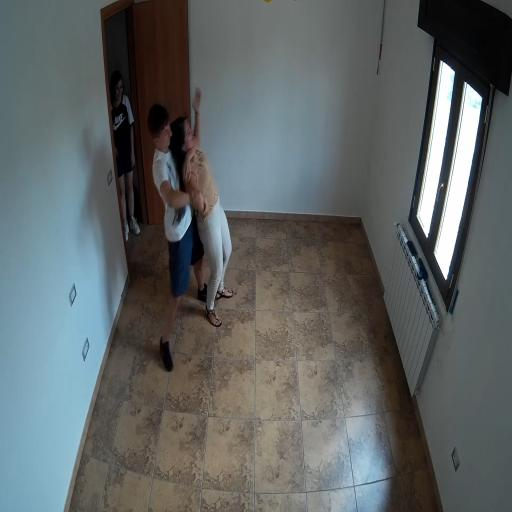violencia: (138, 79, 244, 377)
